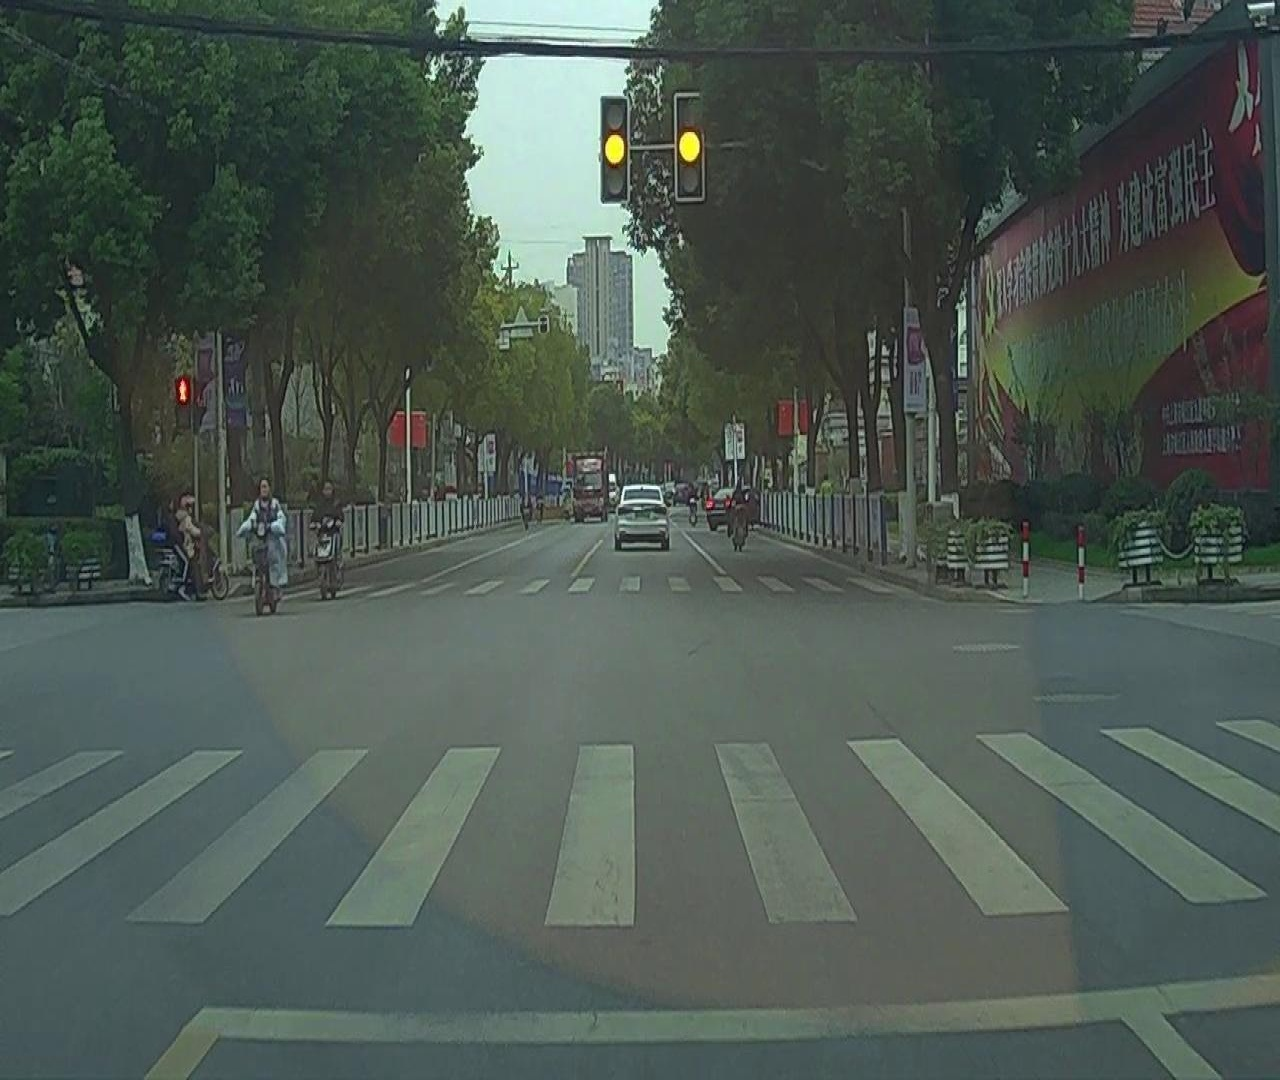yellow: (601, 96, 628, 201), (678, 93, 703, 201)
